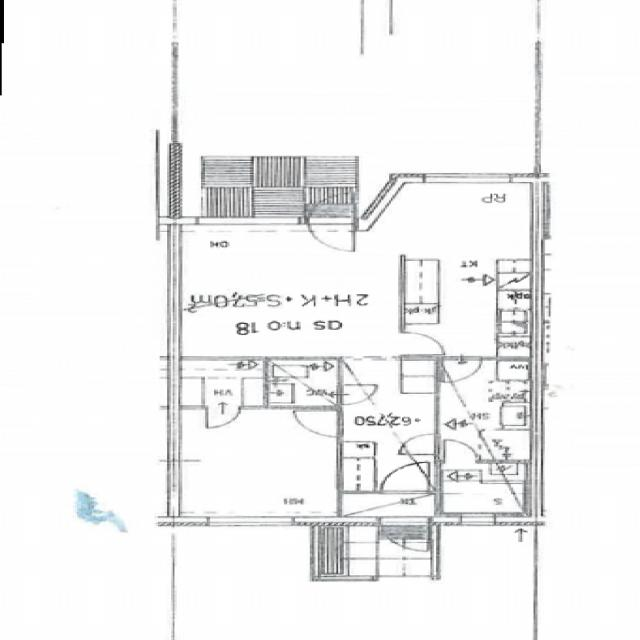door: (380, 516, 427, 553), (308, 216, 354, 252), (308, 190, 354, 225), (379, 463, 426, 494), (294, 412, 343, 436), (443, 356, 479, 382), (399, 333, 441, 354), (335, 385, 377, 404), (205, 404, 238, 428), (400, 434, 439, 454), (444, 442, 474, 464)
